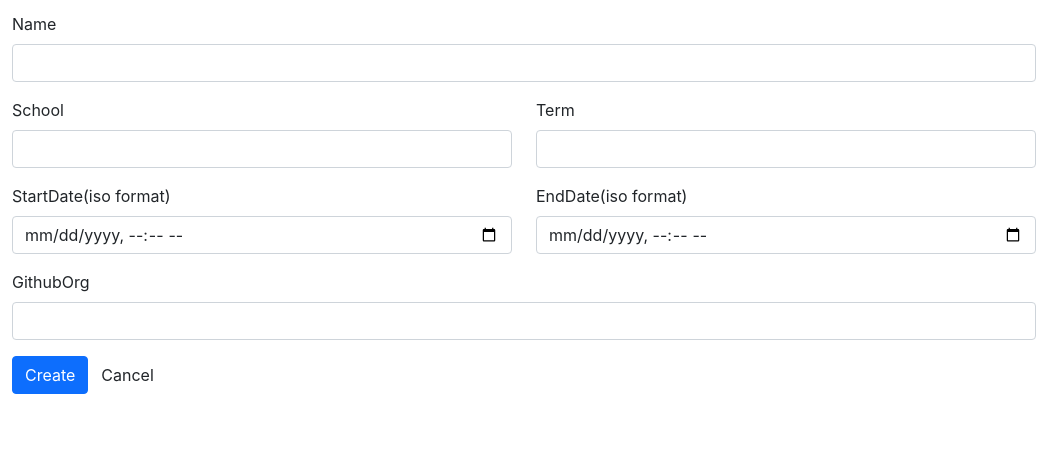
Test: CoursesForm tests › Error messages on bad input (start date is greater than end date)
The width and height of the screenshot is (1048, 457).
In the field with test id "CoursesForm-name": (524, 63) [12, 44, 1036, 82], type "CMPSC 156"
In the field with test id "CoursesForm-school": (262, 149) [12, 130, 512, 168], type "ucsb"
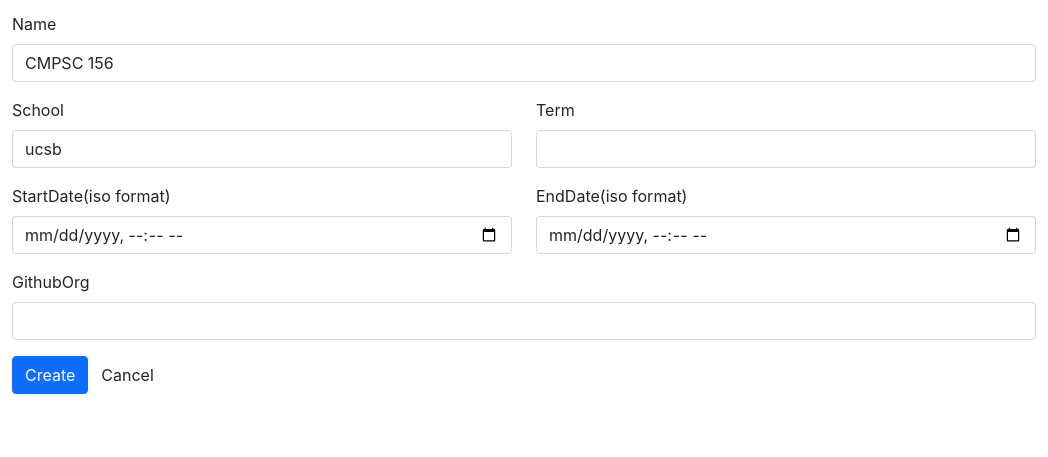
In the field with test id "CoursesForm-term": (786, 149) [536, 130, 1036, 168], type "f23"
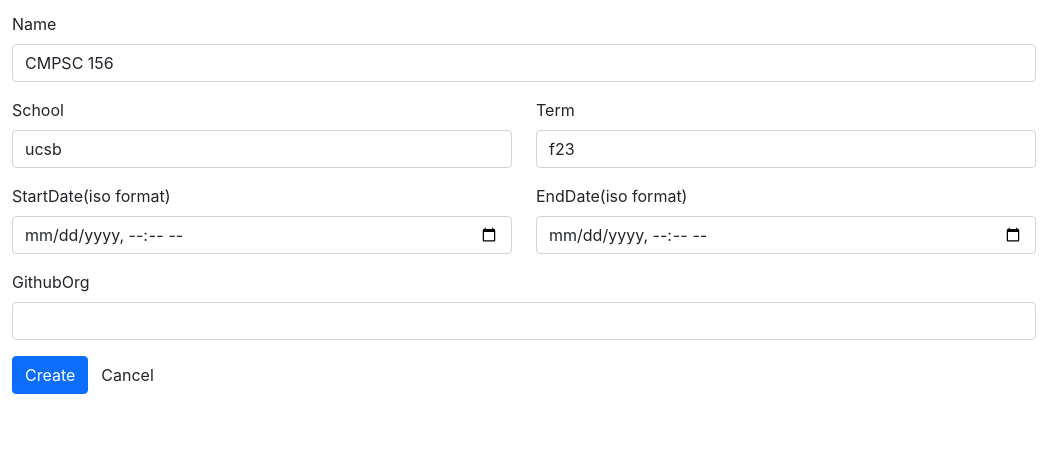
In the field with test id "CoursesForm-startDate": (262, 235) [12, 216, 512, 254], type "2024-01-02T12:00"
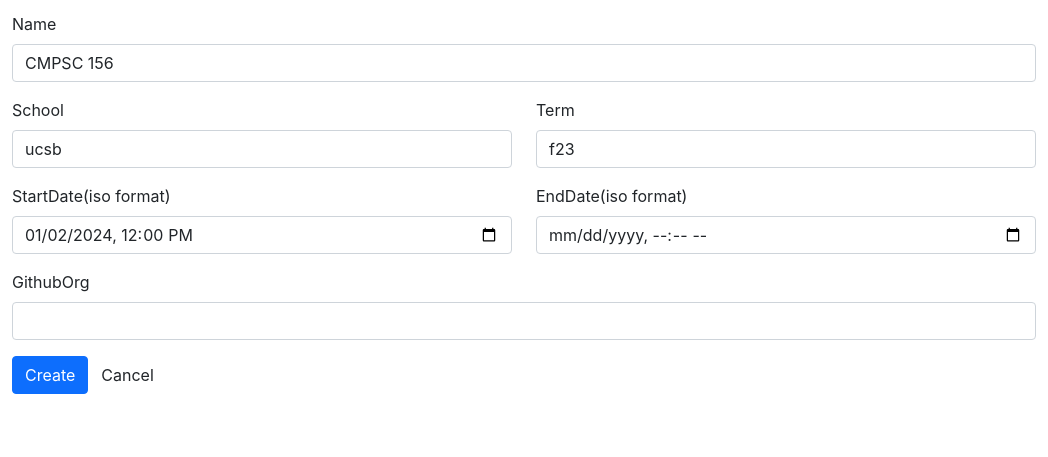
In the field with test id "CoursesForm-endDate": (786, 235) [536, 216, 1036, 254], type "2022-02-02T12:00"
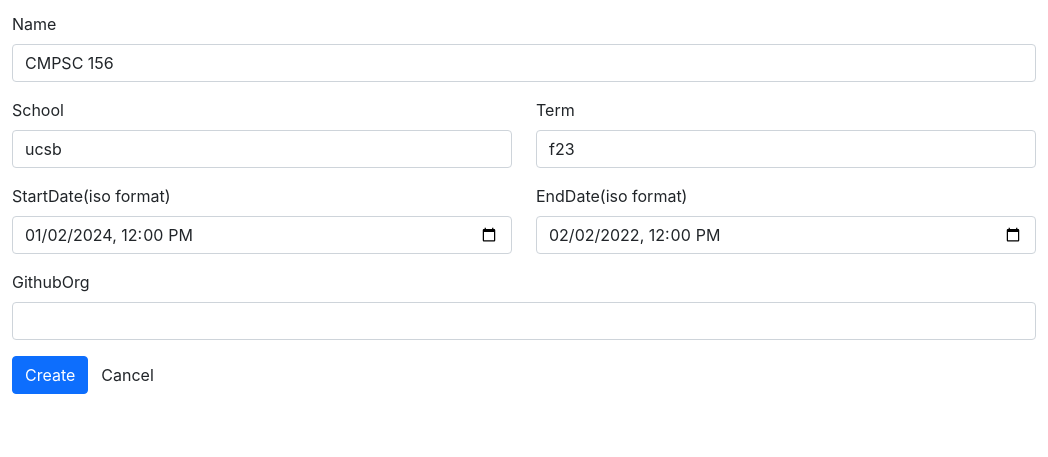
In the field with test id "CoursesForm-githubOrg": (524, 321) [12, 302, 1036, 340], type "cs156-f23"
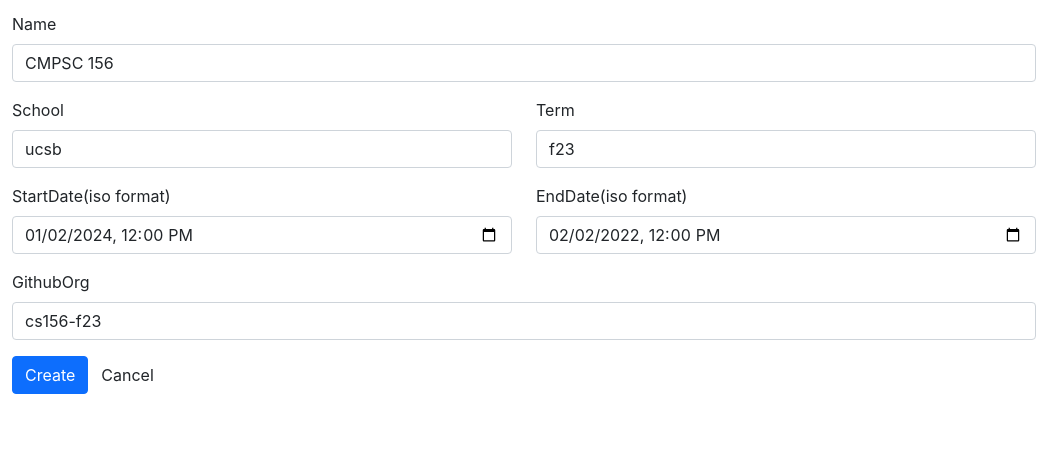
Click the button with test id "CoursesForm-submit": (50, 375) [12, 356, 88, 394]
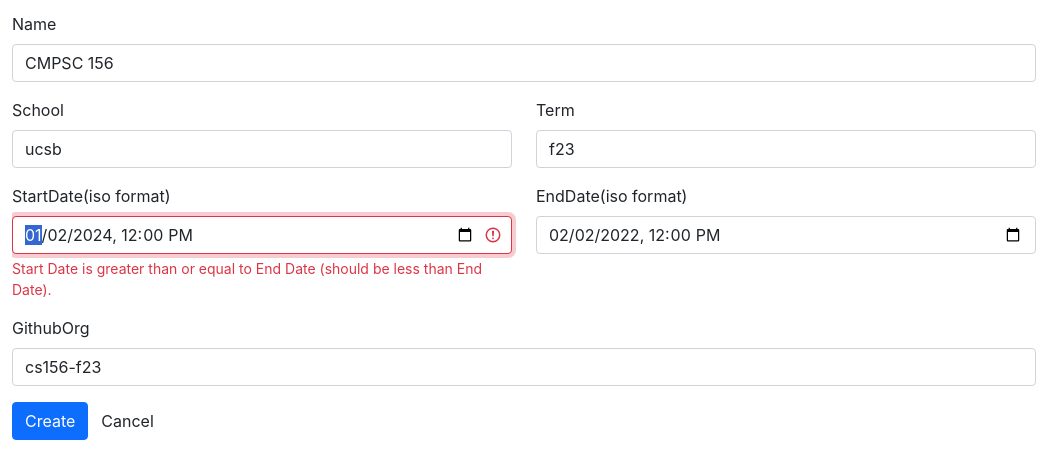
Check: the text "Start Date is greater than or equal to End Date" is shown, box [12, 260, 482, 298]
